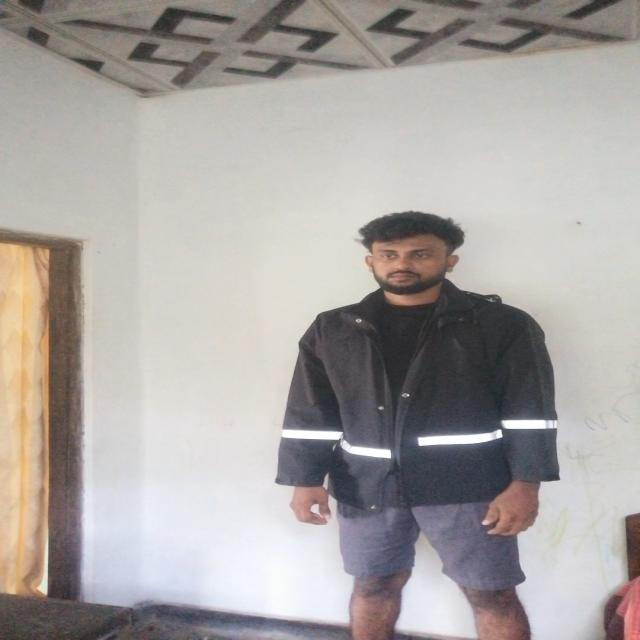Jacket_Wearer: (272, 286, 580, 526)
